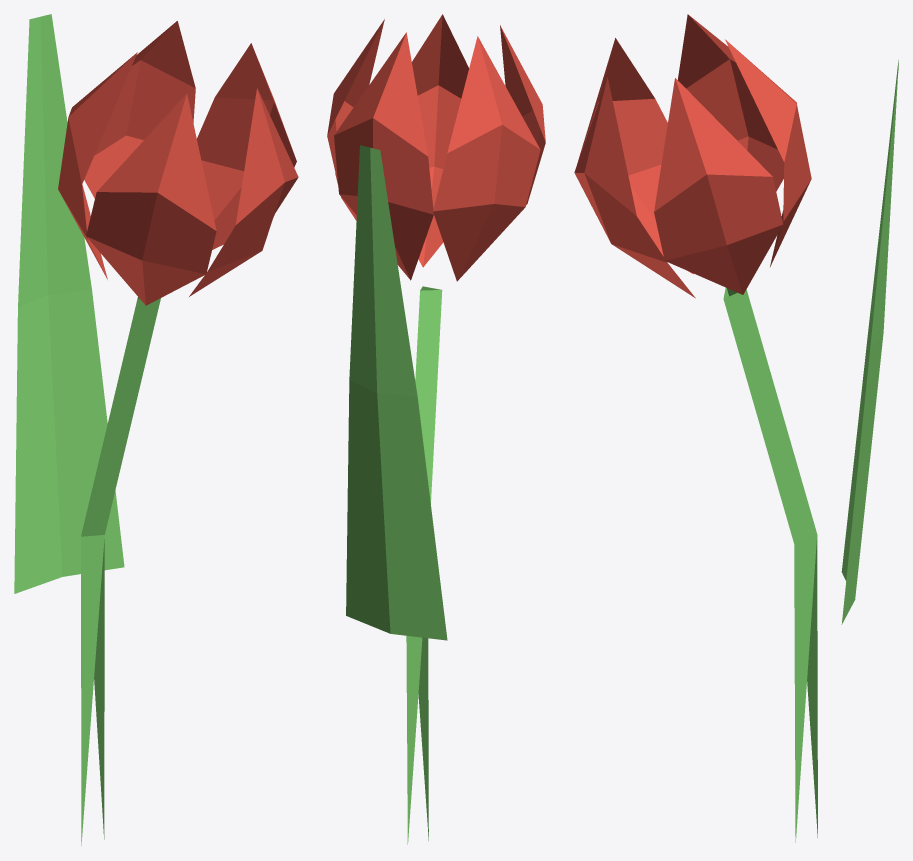
3 renders of one model, left to right at view 1: azimuth 30°, elevation 25°; view 2: azimuth 150°, elevation 25°; view 3: azimuth 270°, elevation 25°, orthographic. The views are drawn at different scales.
Parts seen in each view (by area): view 1: ec9678eb; view 2: ec9678eb; view 3: ec9678eb.
Boxes of the visible parts, x1,y1,x2,y2 form: ec9678eb: (14, 14, 298, 845); ec9678eb: (327, 14, 545, 844); ec9678eb: (574, 14, 898, 842).
Bounding box in the file's own units: 0.0425 × 0.1631 × 0.058.
